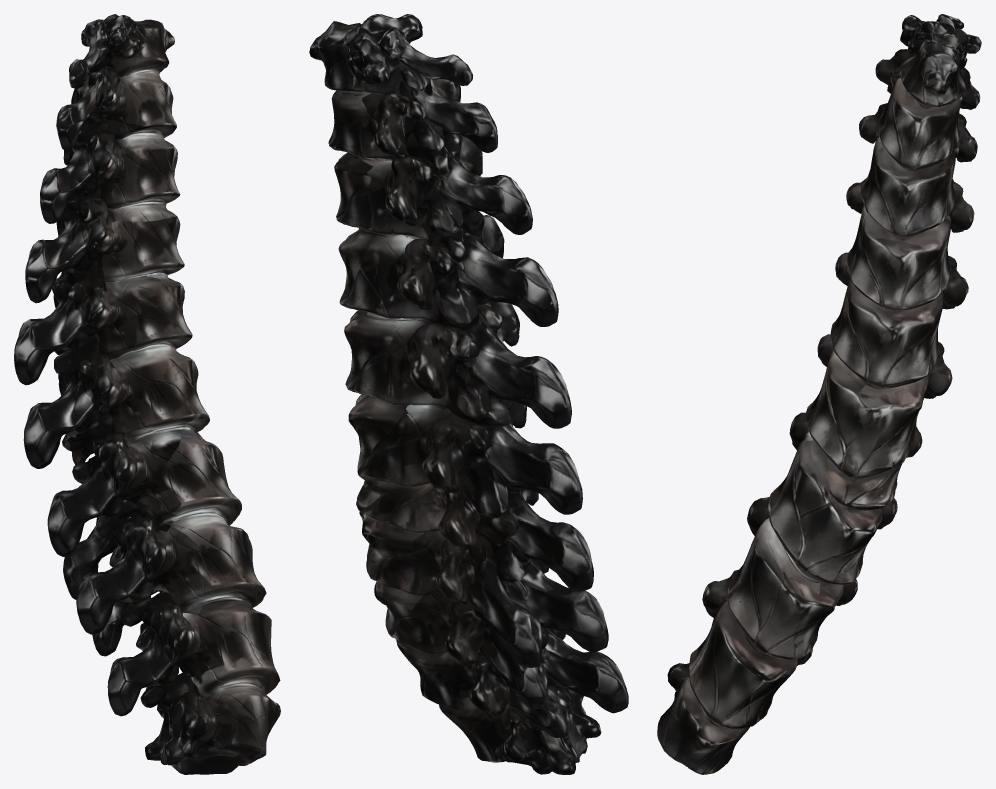
File: spine-phone.glb
3 views of the same model, side by side, from view 1: azimuth 30°, elevation 25°; view 2: azimuth 150°, elevation 25°; view 3: azimuth 270°, elevation 25° (orthographic). The views are drawn at different scales.
Visible parts, largest first — view 1: tripo_node_fd81abb5; view 2: tripo_node_fd81abb5; view 3: tripo_node_fd81abb5.
Boxes of the visible parts, x1,y1,x2,y2 form: tripo_node_fd81abb5: (14, 14, 280, 774); tripo_node_fd81abb5: (309, 14, 628, 774); tripo_node_fd81abb5: (657, 14, 981, 774).
Size of the model in its own units: 0.3294 by 1.09 by 0.4308.
Materials: 1 (1 with a texture image).
